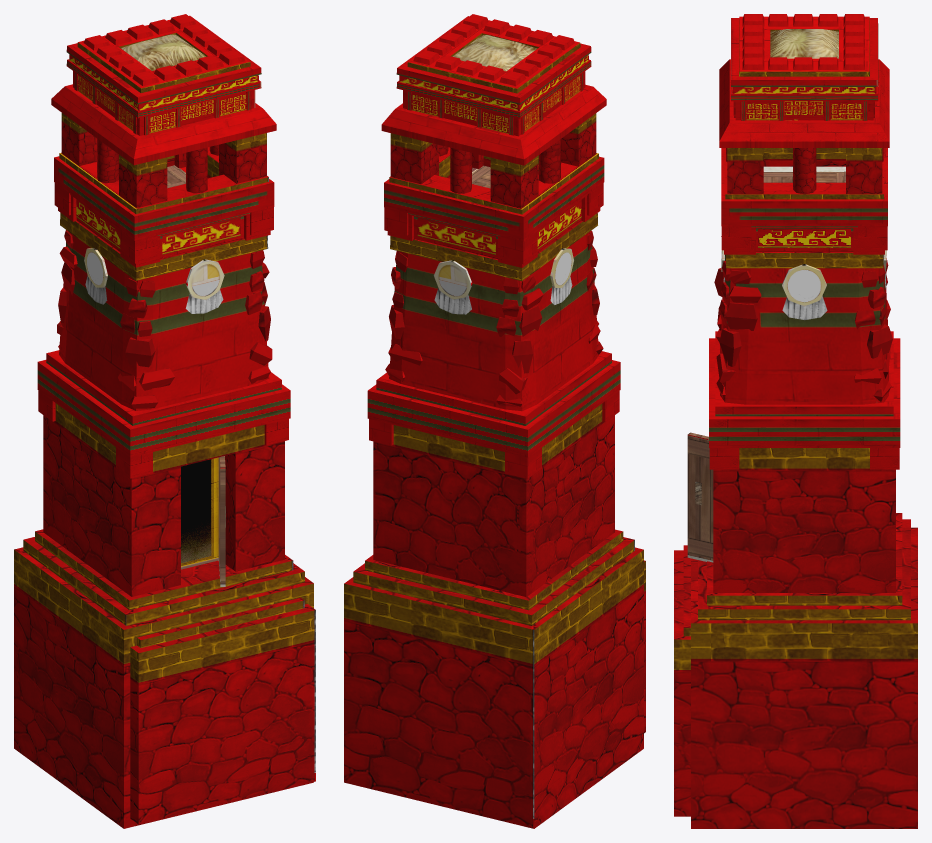
The model's file is zapo_defense_tower.dae.
3 views of the same model, side by side, from view 1: azimuth 30°, elevation 25°; view 2: azimuth 150°, elevation 25°; view 3: azimuth 270°, elevation 25° (orthographic). The views are drawn at different scales.
Parts seen in each view (by area): view 1: Defense_Tower; view 2: Defense_Tower; view 3: Defense_Tower.
Part boxes in pixels (x1,y1,x2,y2): Defense_Tower: [14, 14, 315, 828]; Defense_Tower: [344, 14, 645, 828]; Defense_Tower: [674, 14, 917, 828].
Bounding box in the file's own units: 7.64 × 8.22 × 27.67.
